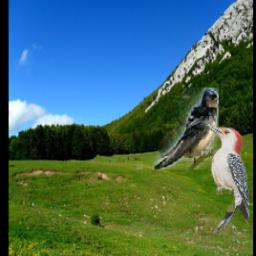Swallow: (137, 88, 219, 170)
Woodpecker: (203, 123, 250, 236)
